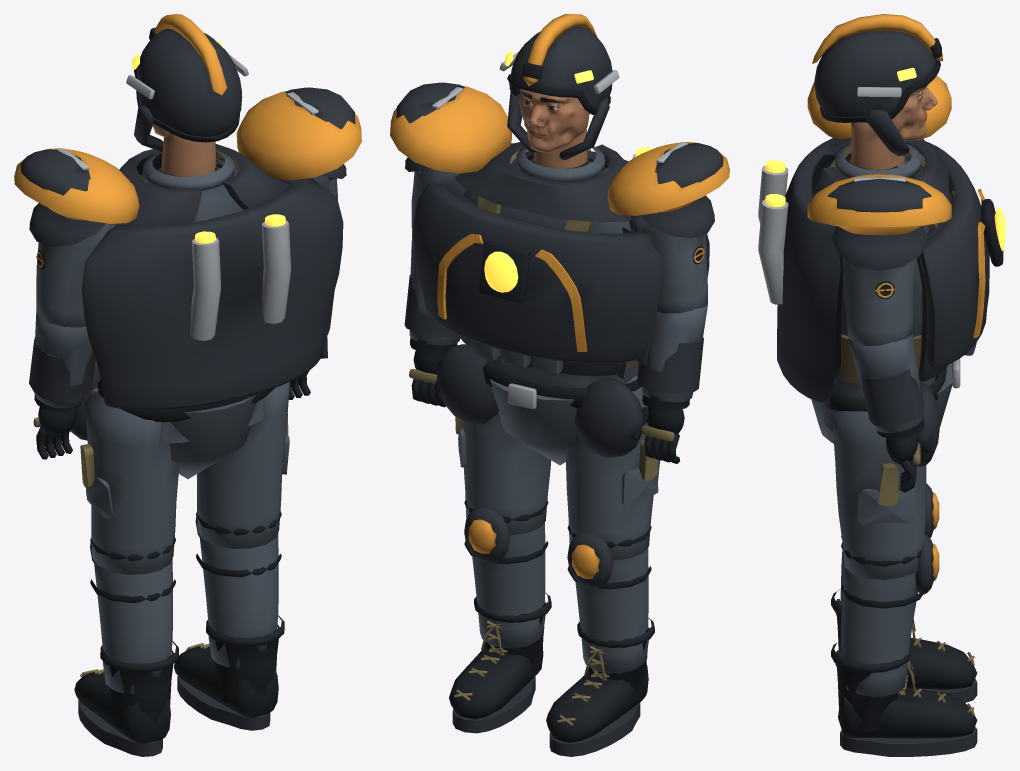
Rendered from kf-varg.glb.
3 views of the same model, side by side, from view 1: azimuth 30°, elevation 25°; view 2: azimuth 150°, elevation 25°; view 3: azimuth 270°, elevation 25° (orthographic). The views are drawn at different scales.
Parts seen in each view (by area): view 1: Torso Ceramic armor, ArmorPlates Unit insignia, Leg_R Woven uniform, Leg_L Woven uniform, Knee_L Rubber and hair, Head Ceramic armor, Knee_R Rubber and hair, Torso Woven uniform, Knee_L Woven uniform, Knee_R Woven uniform, ArmorPlates Ceramic armor, Torso Brushed fittings (+9 smaller); view 2: ArmorPlates Ceramic armor, ArmorPlates Unit insignia, Torso Woven uniform, Leg_R Woven uniform, Knee_R Rubber and hair, Leg_L Woven uniform, Knee_L Rubber and hair, Knee_L Woven uniform, Knee_R Woven uniform, Head Ceramic armor, Arm_R Woven uniform, Head Skin (+21 smaller); view 3: Torso Ceramic armor, ArmorPlates Ceramic armor, Leg_L Woven uniform, Knee_L Rubber and hair, ArmorPlates Unit insignia, Head Ceramic armor, Knee_L Woven uniform, Arm_L Woven uniform, Torso Woven uniform, Torso Brushed fittings, Knee_R Rubber and hair, Arm_L Ceramic armor (+14 smaller).
Part boxes in pixels (box(x1,y1,x2,y2)): Torso Ceramic armor: box(82, 178, 343, 410); ArmorPlates Unit insignia: box(14, 87, 361, 223); Leg_R Woven uniform: box(85, 391, 179, 574); Leg_L Woven uniform: box(197, 381, 289, 548); Knee_L Rubber and hair: box(174, 511, 284, 730); Head Ceramic armor: box(134, 28, 242, 151); Knee_R Rubber and hair: box(74, 537, 178, 756); Torso Woven uniform: box(141, 150, 265, 478); Knee_L Woven uniform: box(199, 533, 278, 668); Knee_R Woven uniform: box(93, 559, 172, 694); ArmorPlates Ceramic armor: box(70, 144, 289, 440); Torso Brushed fittings: box(190, 214, 290, 340); ArmorPlates Ceramic armor: box(412, 141, 661, 457); ArmorPlates Unit insignia: box(390, 82, 729, 351); Torso Woven uniform: box(463, 146, 638, 465); Leg_R Woven uniform: box(565, 376, 659, 560); Knee_R Rubber and hair: box(546, 525, 654, 756); Leg_L Woven uniform: box(458, 412, 551, 535); Knee_L Rubber and hair: box(449, 499, 551, 733); Knee_L Woven uniform: box(472, 522, 545, 648); Knee_R Woven uniform: box(575, 547, 648, 673); Head Ceramic armor: box(507, 26, 612, 159); Arm_R Woven uniform: box(629, 215, 707, 313); Head Skin: box(519, 89, 589, 152); Torso Ceramic armor: box(777, 138, 954, 412); ArmorPlates Ceramic armor: box(813, 138, 989, 466); Leg_L Woven uniform: box(831, 409, 926, 579); Knee_L Rubber and hair: box(831, 543, 977, 756); ArmorPlates Unit insignia: box(807, 75, 985, 338); Head Ceramic armor: box(814, 30, 936, 155); Knee_L Woven uniform: box(840, 566, 917, 697); Arm_L Woven uniform: box(842, 257, 917, 345); Torso Woven uniform: box(811, 143, 976, 443); Torso Brushed fittings: box(758, 160, 960, 388); Knee_R Rubber and hair: box(831, 535, 977, 702); Arm_L Ceramic armor: box(832, 226, 927, 270).
Bounding box in the file's own units: 0.9324 × 1.93 × 0.6155.
